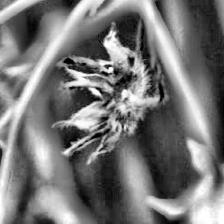Gray Mold: (52, 22, 157, 163)
